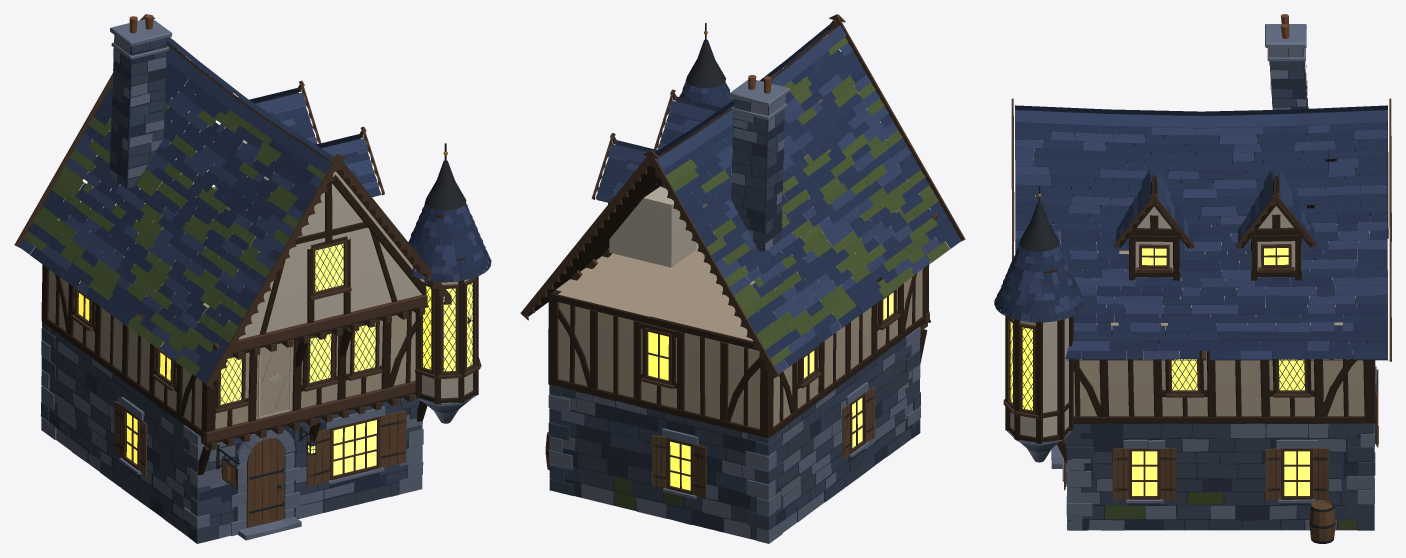
Rendered from house_02_c.glb.
3 renders of one model, left to right at view 1: azimuth 30°, elevation 25°; view 2: azimuth 150°, elevation 25°; view 3: azimuth 270°, elevation 25°, orthographic. The views are drawn at different scales.
Parts seen in each view (by area): view 1: isl_house_02_c; view 2: isl_house_02_c; view 3: isl_house_02_c.
Part boxes in pixels (x1,y1,x2,y2): isl_house_02_c: [14, 14, 491, 543]; isl_house_02_c: [520, 14, 965, 543]; isl_house_02_c: [994, 14, 1391, 543].
Size of the model in its own units: 7.88 by 11.17 by 9.39.
